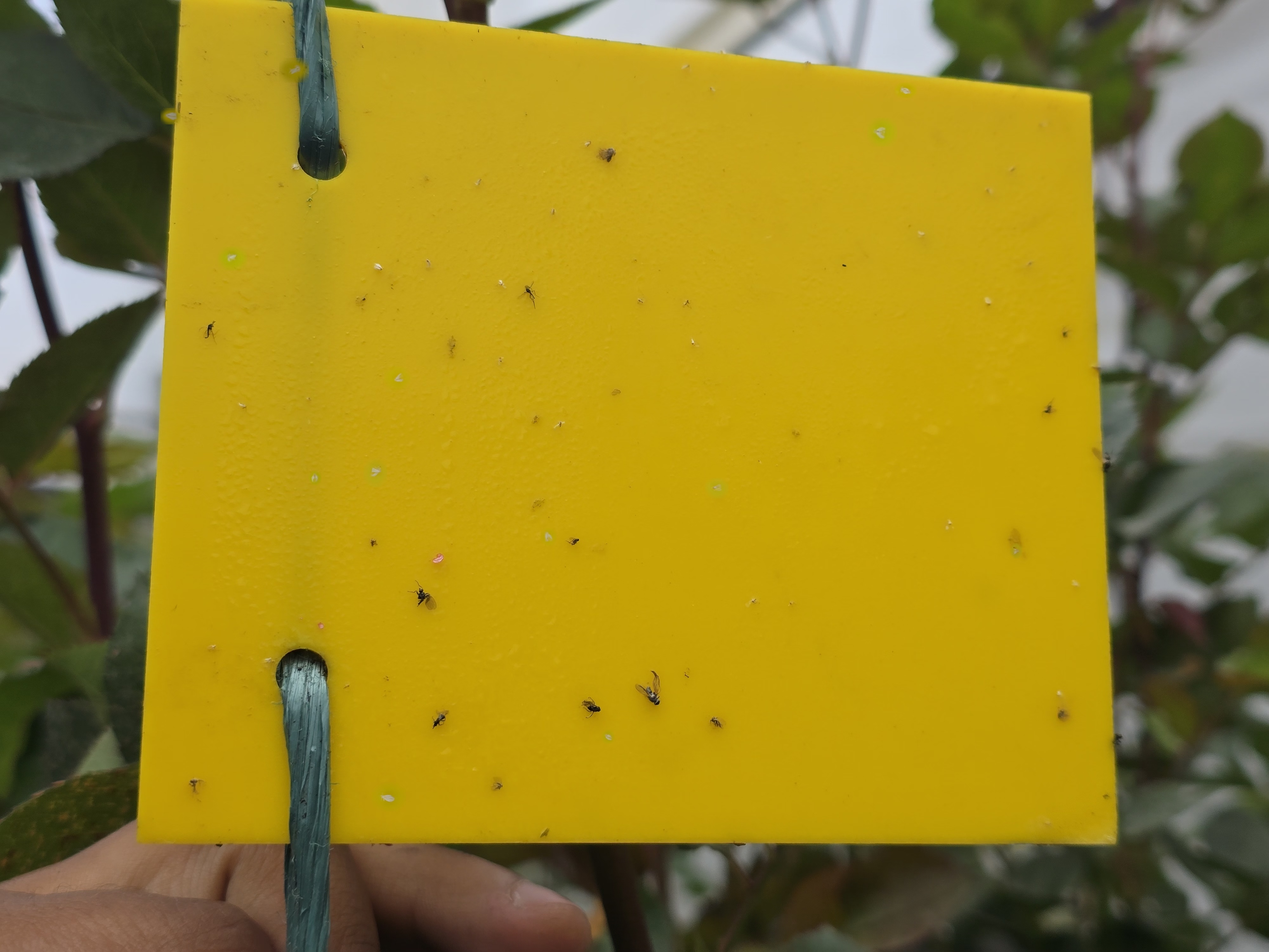WF: (377, 787, 401, 807), (872, 122, 892, 142), (284, 61, 304, 79), (222, 250, 243, 267), (367, 463, 383, 483), (388, 369, 406, 386), (708, 481, 725, 495), (680, 61, 693, 74), (163, 110, 177, 122), (898, 85, 913, 96), (497, 280, 509, 292), (543, 531, 554, 543), (290, 163, 303, 173), (374, 262, 384, 274), (1069, 580, 1081, 589), (238, 402, 249, 411), (1011, 545, 1020, 556), (603, 731, 612, 742), (917, 230, 926, 239), (311, 473, 319, 483), (1055, 690, 1064, 697), (266, 656, 272, 664)
